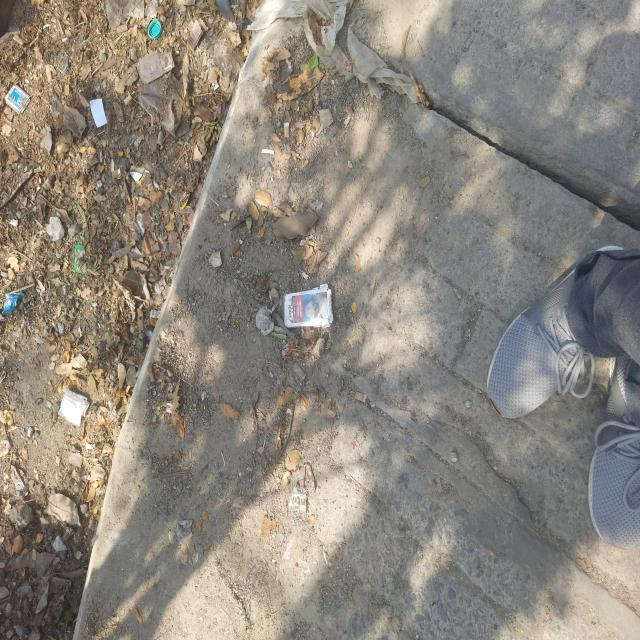Cig_bud: (284, 122, 290, 138), (124, 95, 132, 105)
Cig_pack: (284, 283, 334, 328), (138, 52, 174, 83)
Plastic: (139, 77, 190, 138), (148, 18, 162, 40), (58, 55, 69, 75)
Plastic_Bag: (250, 0, 354, 78), (348, 28, 419, 103)
Plastic_wraper: (2, 292, 24, 315), (72, 243, 86, 273), (188, 20, 202, 50), (139, 172, 152, 190), (179, 192, 190, 208)
